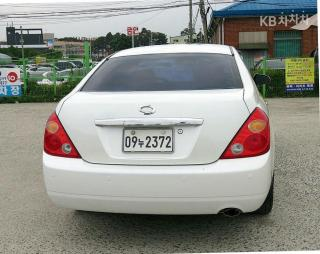0: (124, 135, 132, 149)
2: (145, 135, 152, 148), (166, 136, 172, 150)
3: (152, 135, 158, 149)
7: (158, 134, 166, 149)
9: (131, 136, 138, 149)
plate: (117, 124, 178, 155)
누: (138, 138, 145, 148)
